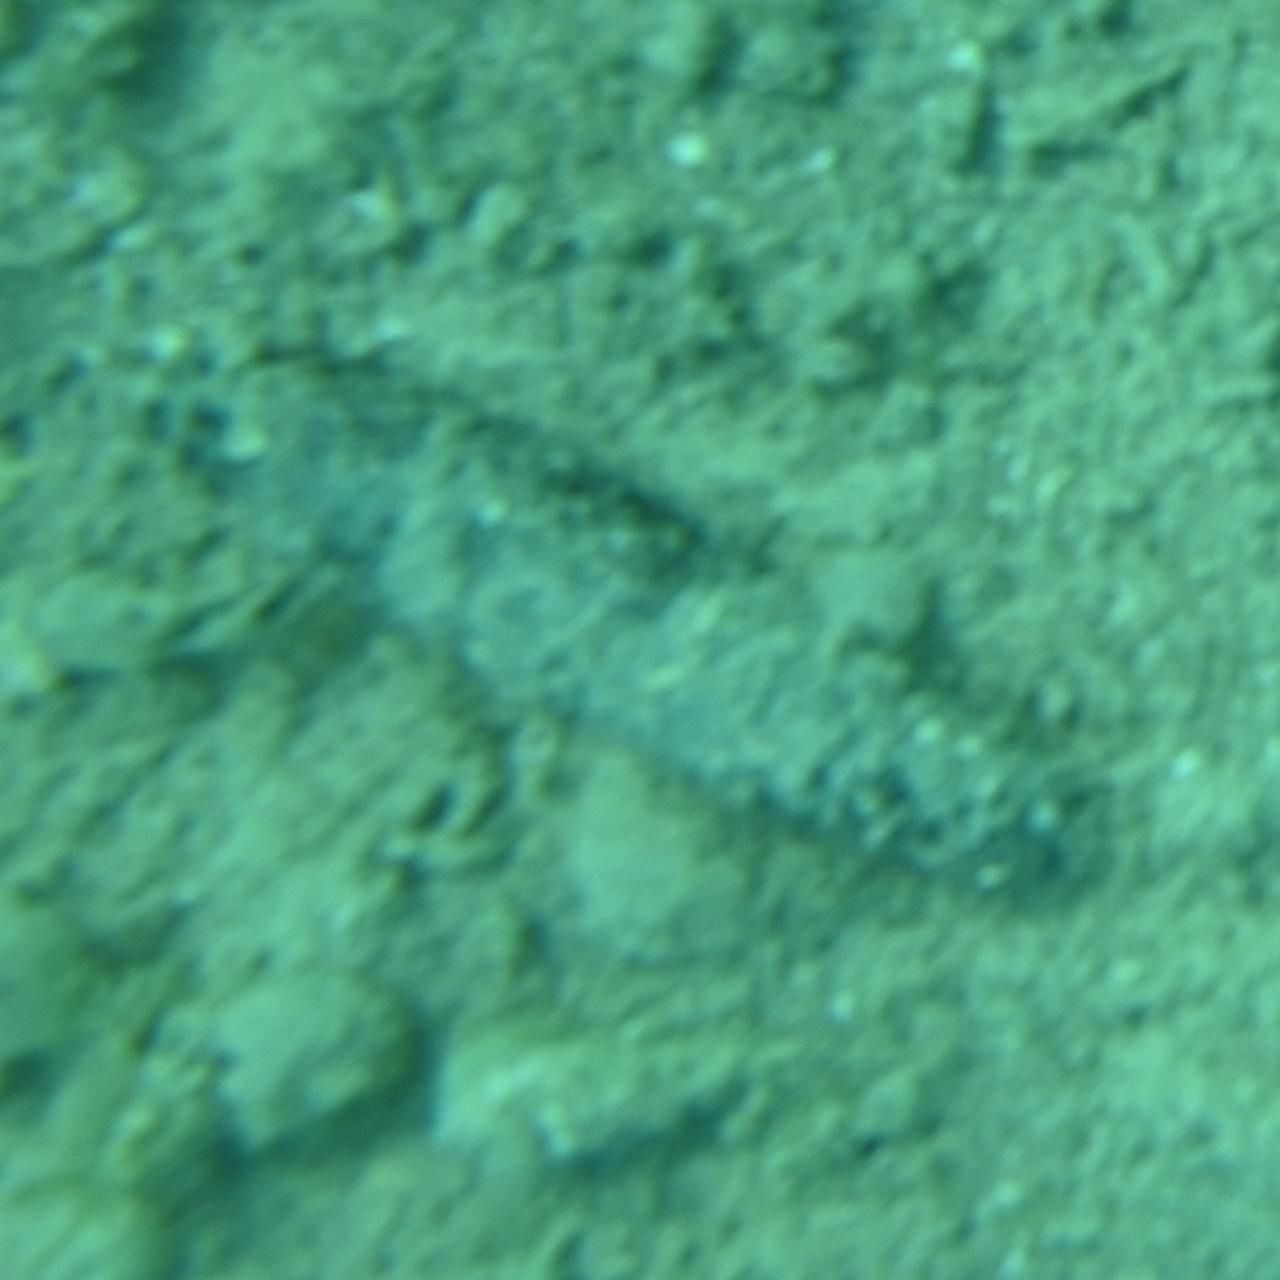Holothuria tubulosa: (120, 340, 1160, 940)
